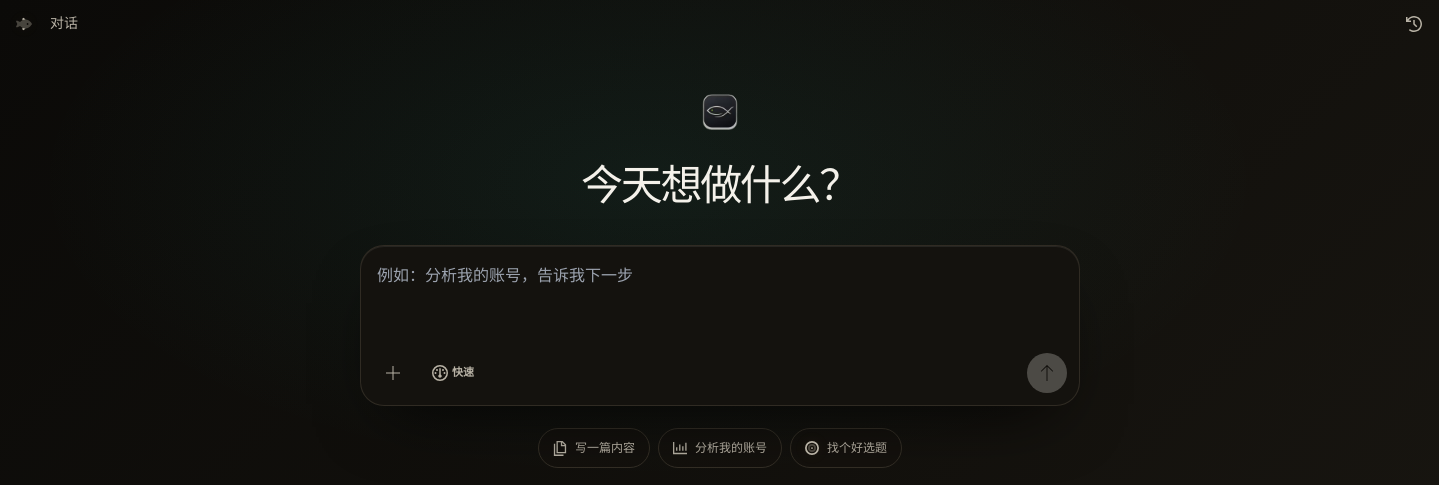
AgentAutomationCenter task queue › returns queued messages to the composer instead of auto-sending them after a stop
Type "第一个任务" into the text box with placeholder "例如：分析我的账号，告诉我下一步" at (720, 300), box top-left (373, 258), bottom-right (1067, 342)
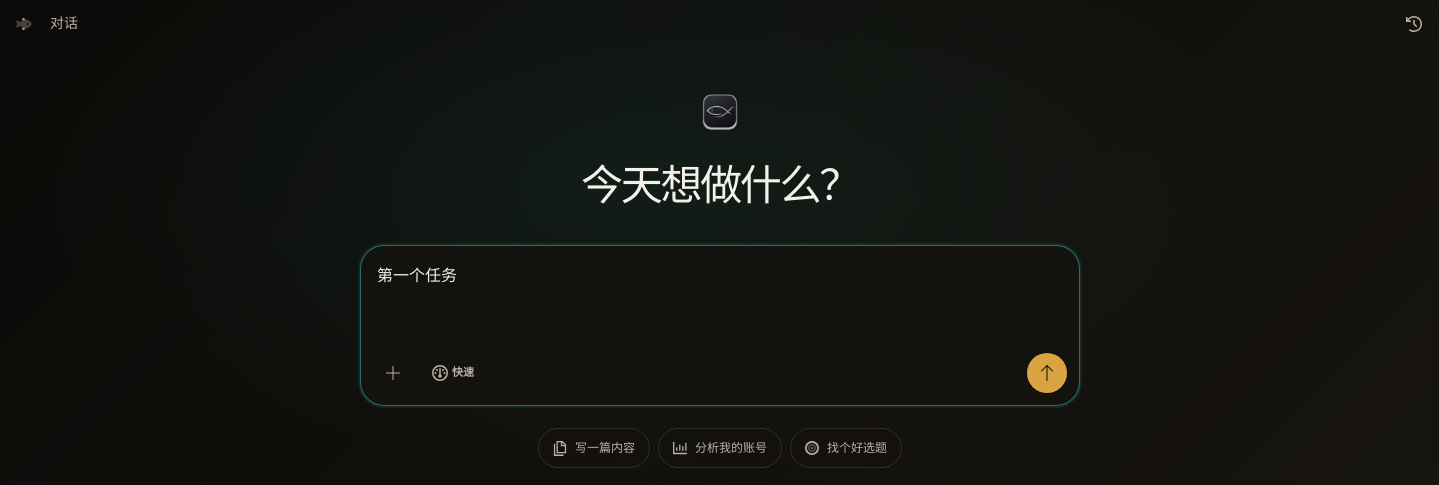
Click the button named "发送" at (1047, 372), box top-left (1027, 352), bottom-right (1067, 392)
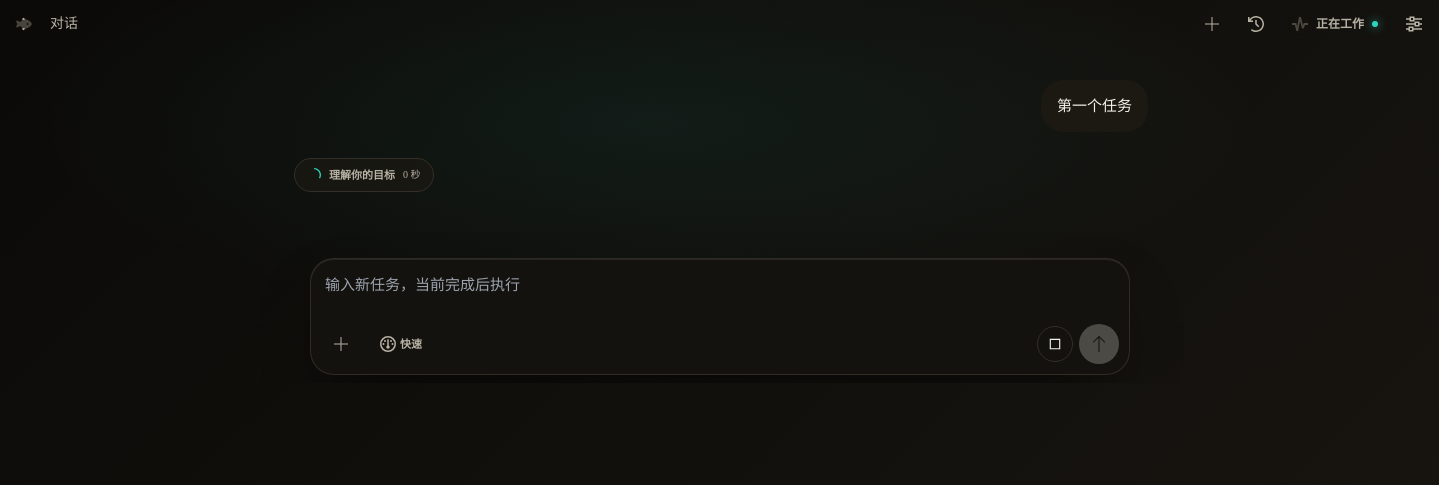
Type "下一个任务" into the text box with placeholder "输入新任务，当前完成后执行" at (720, 291), box top-left (321, 269), bottom-right (1119, 313)
Then press Enter
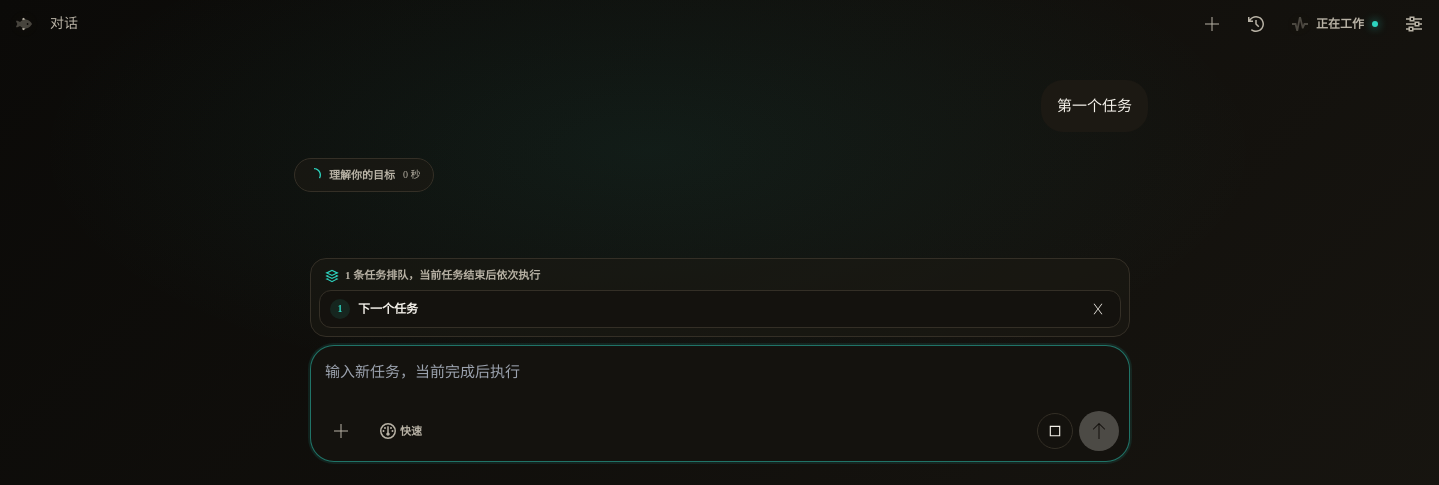
Click the button named "停止" at (1055, 431), box top-left (1037, 413), bottom-right (1073, 449)
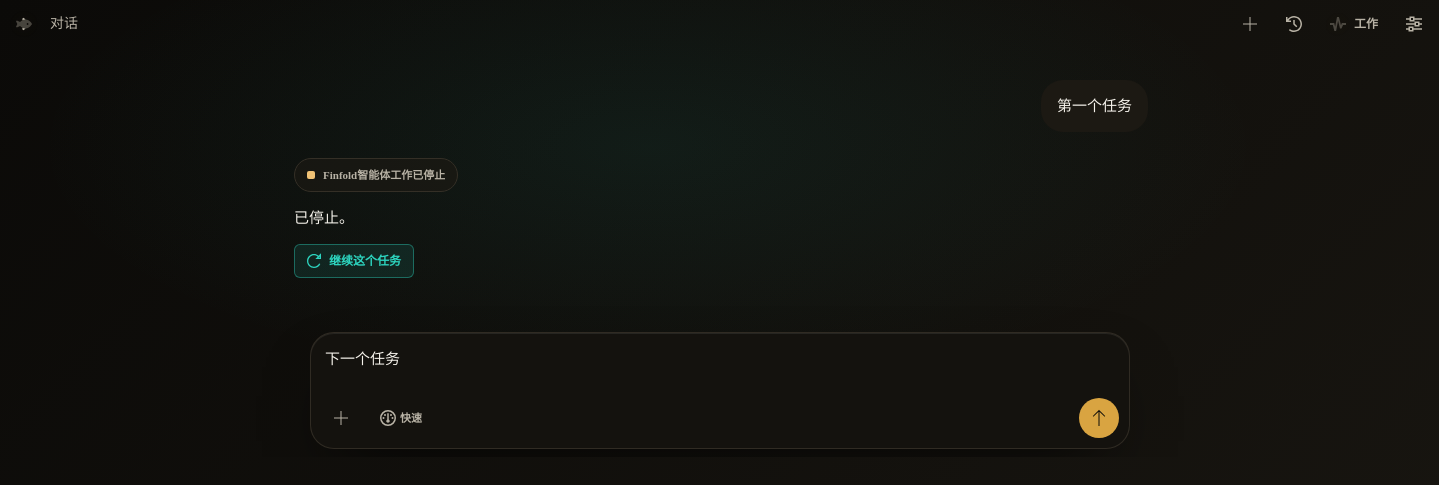
Expected: the text "已停止。" is shown, top-left (294, 210), bottom-right (354, 226)
Expected: the list "排队任务" is gone
